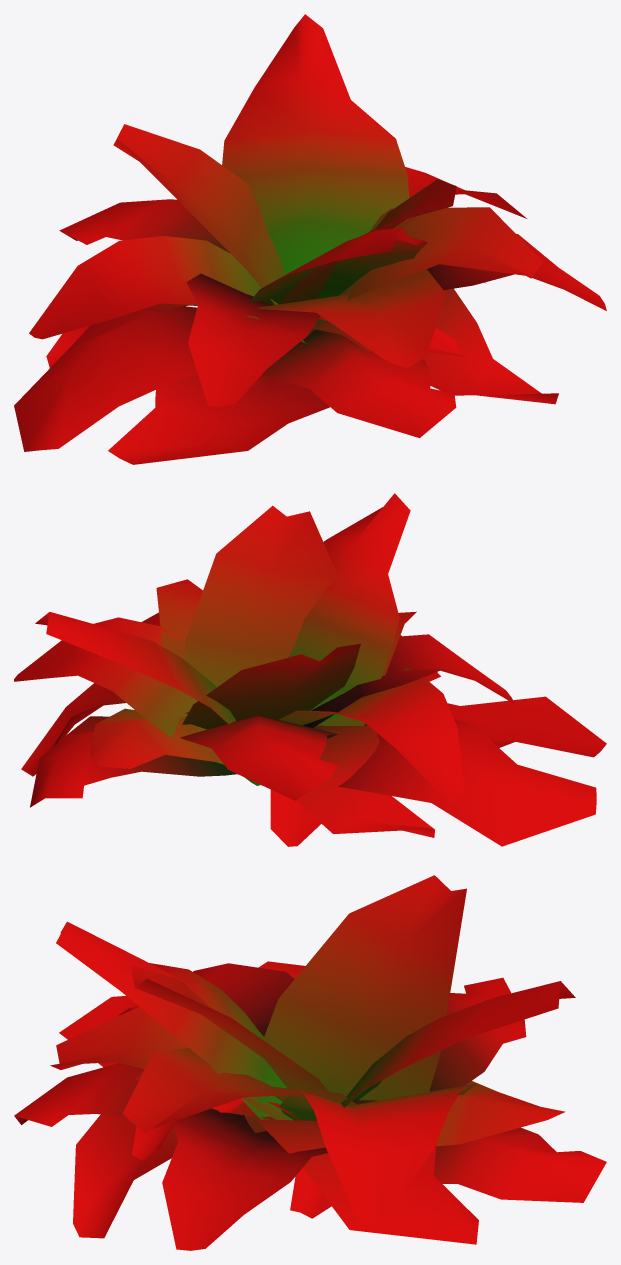
Rendered from Fern_Var2_LOD1.fbx.
3 views of the same model, one above another, from view 1: azimuth 30°, elevation 25°; view 2: azimuth 150°, elevation 25°; view 3: azimuth 270°, elevation 25° (orthographic). The views are drawn at different scales.
Parts seen in each view (by area): view 1: Var2_LOD1; view 2: Var2_LOD1; view 3: Var2_LOD1.
Boxes of the visible parts, x1,y1,x2,y2 form: Var2_LOD1: (14,14,606,464); Var2_LOD1: (14,493,606,846); Var2_LOD1: (14,875,606,1250).
Size of the model in its own units: 57.52 by 22.85 by 49.65.
